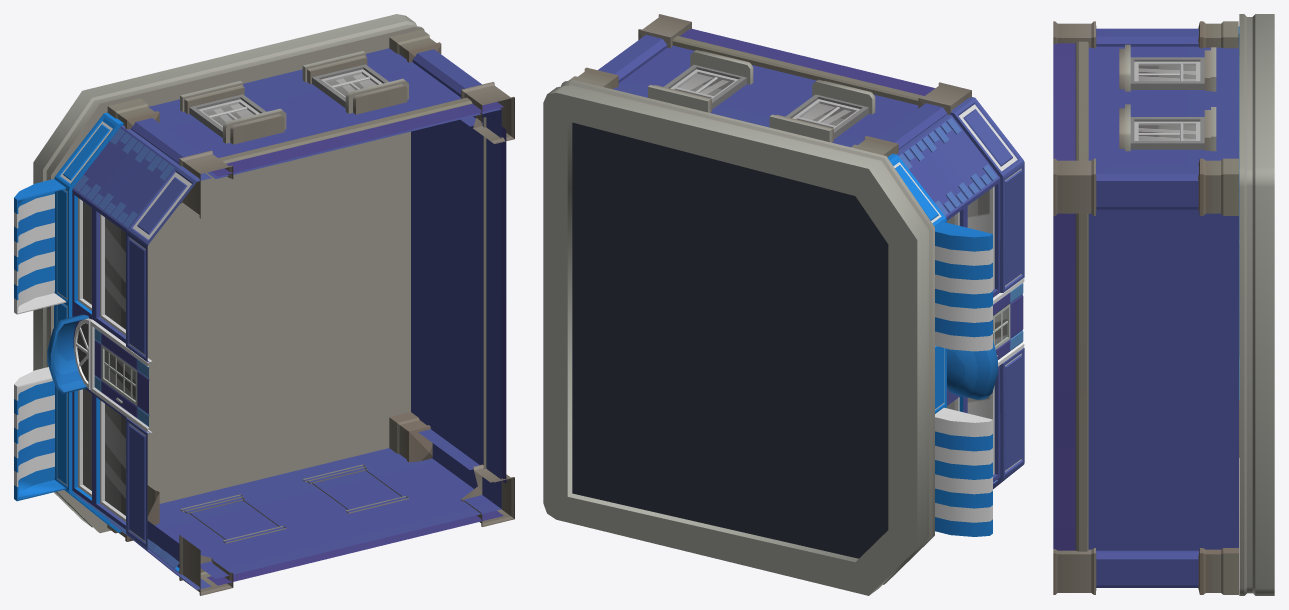
File: Building_3_1_D.fbx
3 views of the same model, side by side, from view 1: azimuth 30°, elevation 25°; view 2: azimuth 150°, elevation 25°; view 3: azimuth 270°, elevation 25° (orthographic).
Visible parts, largest first — view 1: Building 3_1_D; view 2: Building 3_1_D; view 3: Building 3_1_D.
Part boxes in pixels (x1,y1,x2,y2): Building 3_1_D: (14, 14, 514, 595); Building 3_1_D: (543, 14, 1024, 595); Building 3_1_D: (1053, 14, 1274, 595).
Bounding box in the file's own units: 820 × 812 × 373.
